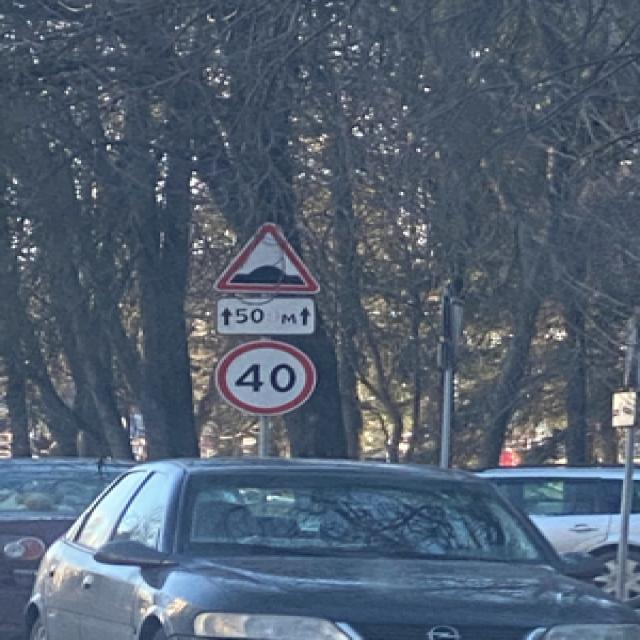speedlimit: (211, 338, 314, 414)
